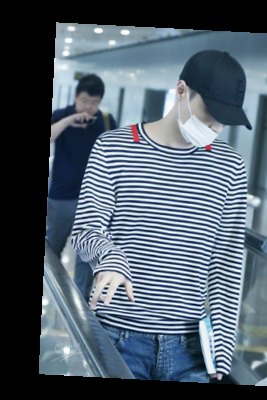mask_weared_incorrect: (161, 47, 256, 160)
